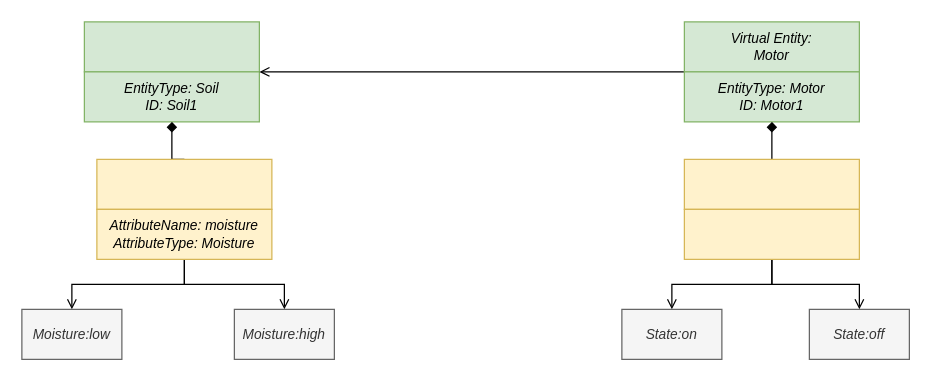
This 931x381 diagram has some shape labels left out. The shapes that lost their labels are listed below. From the top down, each one's box as (x1, y1, x2, y2) in pixels, then its label:
(83, 21, 259, 72): Virtual Entity: Soil
(96, 158, 272, 209): Attribute: Soil
(683, 158, 859, 209): Attribute: State
(683, 208, 859, 259): AttributeName: motor AttributeType: state
